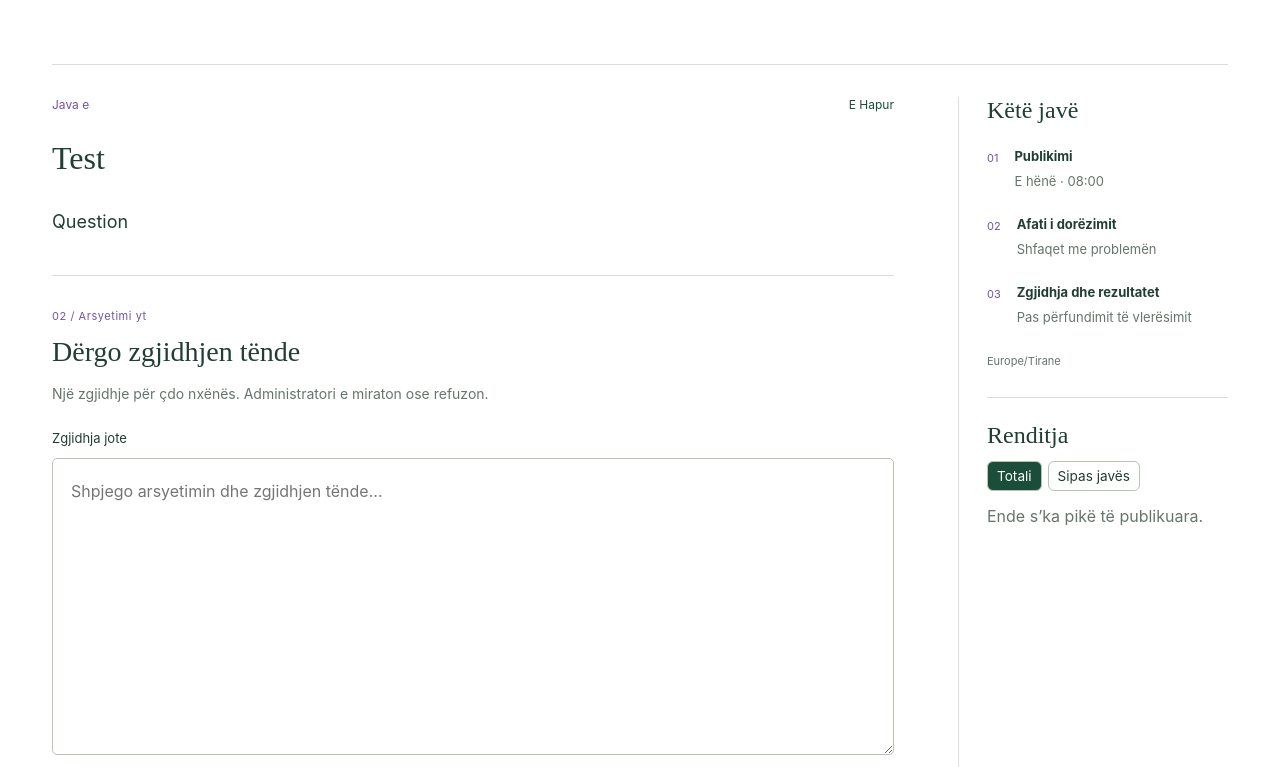
Test: failed weekly submission keeps the answer and permits retry; pending submission cannot repeat
The width and height of the screenshot is (1280, 767).
Type "My reasoning" into the text box labelled "Zgjidhja jote" at (473, 606), box [52,458,894,755]
(page scrolled)
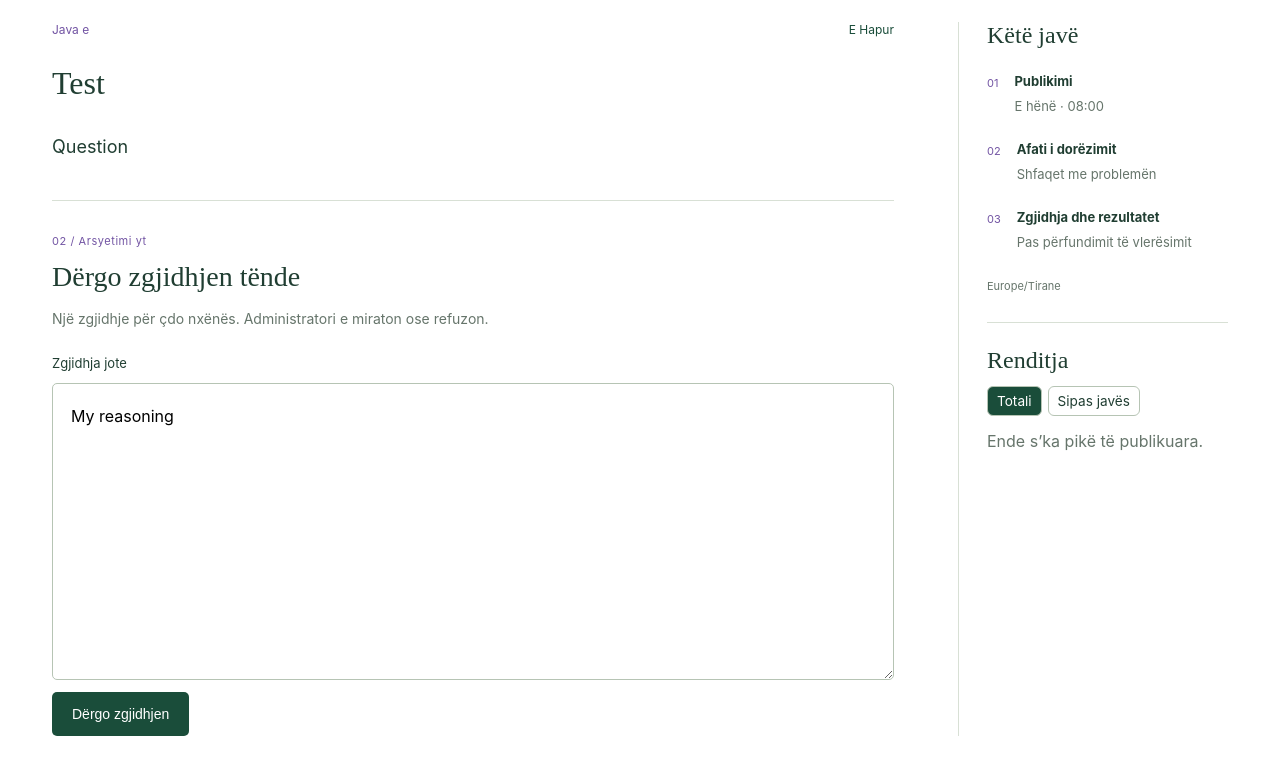
Submit the form labelled "Zgjidhja jote", box [52,355,894,736]
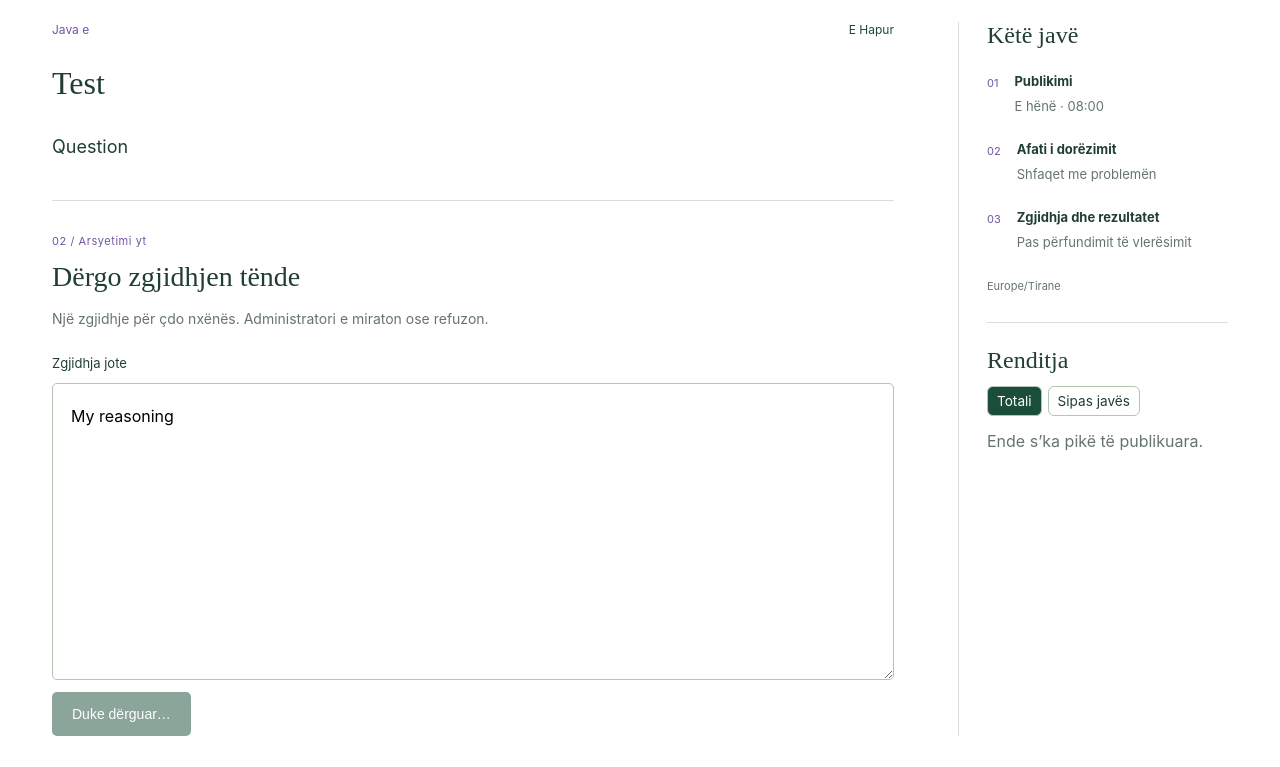
Check: the button "Duke dërguar…" is disabled, box [52,692,191,736]
Submit the form labelled "Zgjidhja jote", box [52,355,894,736]
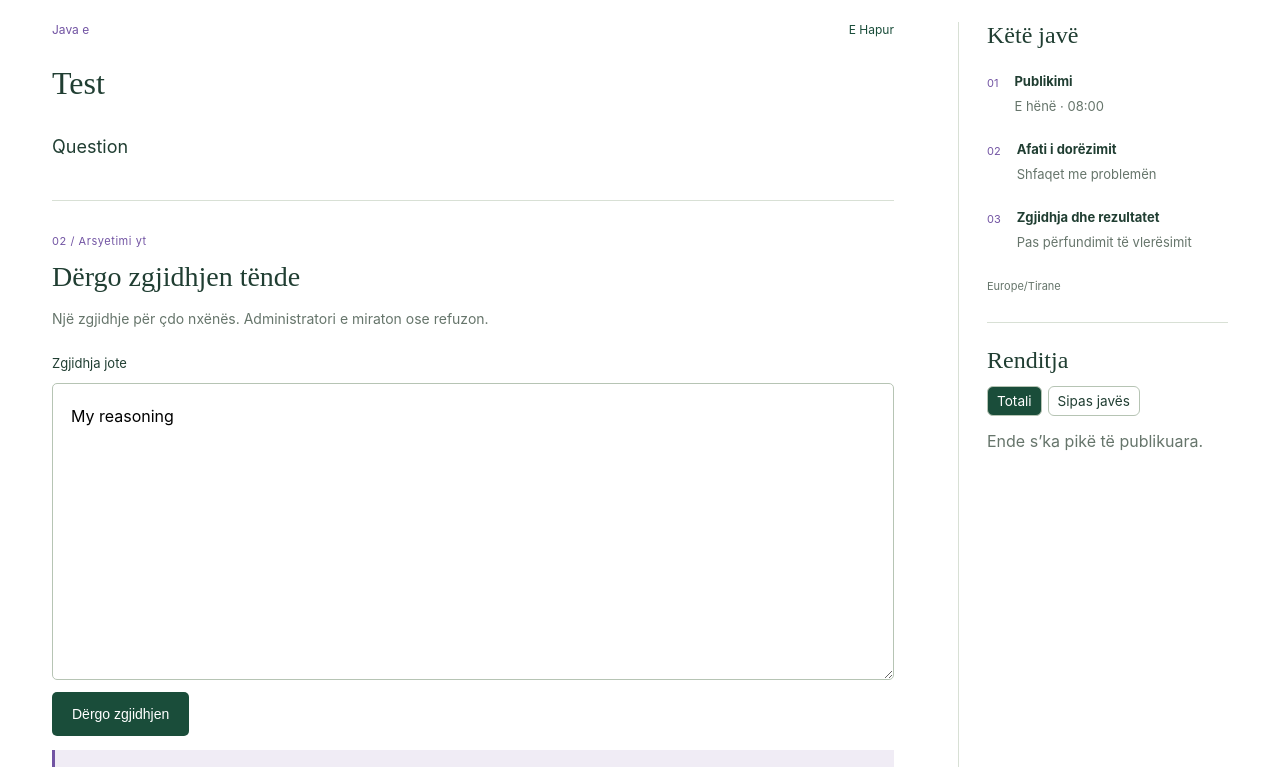
Check: the button "Dërgo zgjidhjen" is enabled, box [52,692,189,736]
